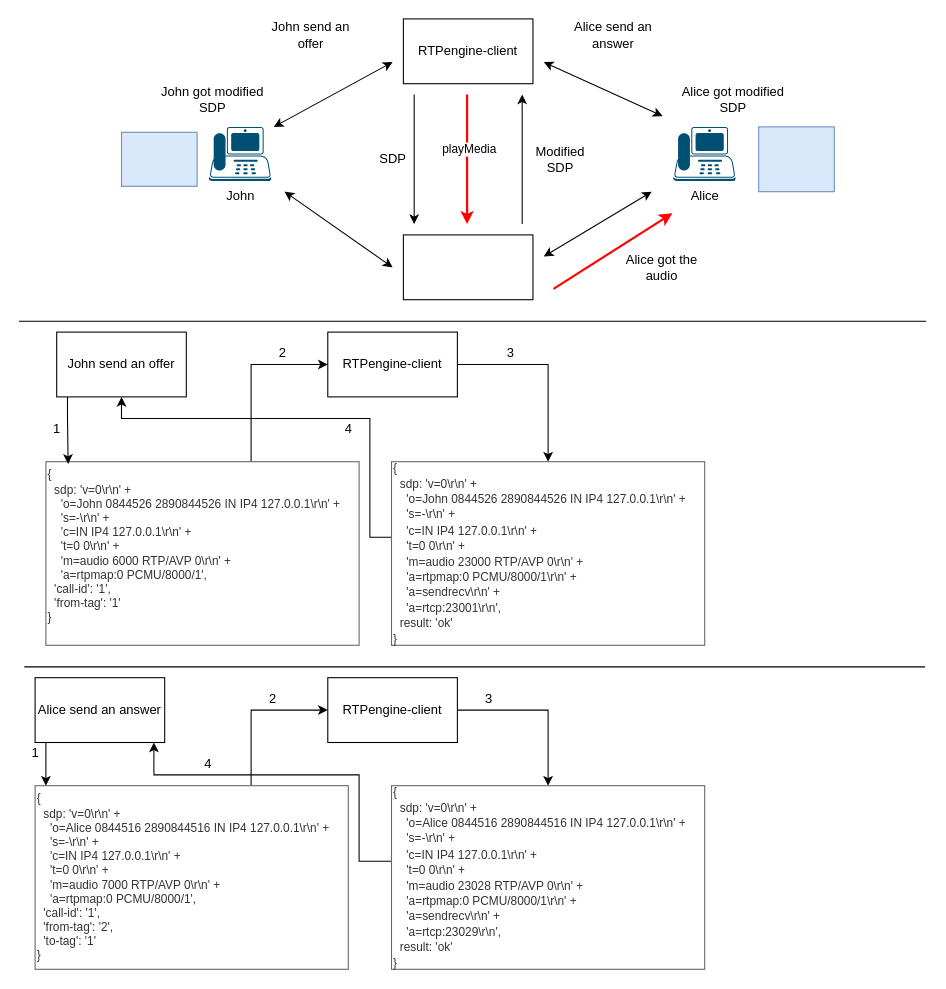
This 946x989 diagram has some shape labels left out. Each missing label, with the centre of its shape:
"port: 6000 call-id: 1 from-tag: 1" belongs at [158,158].
"port: 7000 call-id: 1 from-tag: 2 to-tag: 1" belongs at [796,159].
"RTPengine 127.0.0.1:22222" belongs at [467,267].
